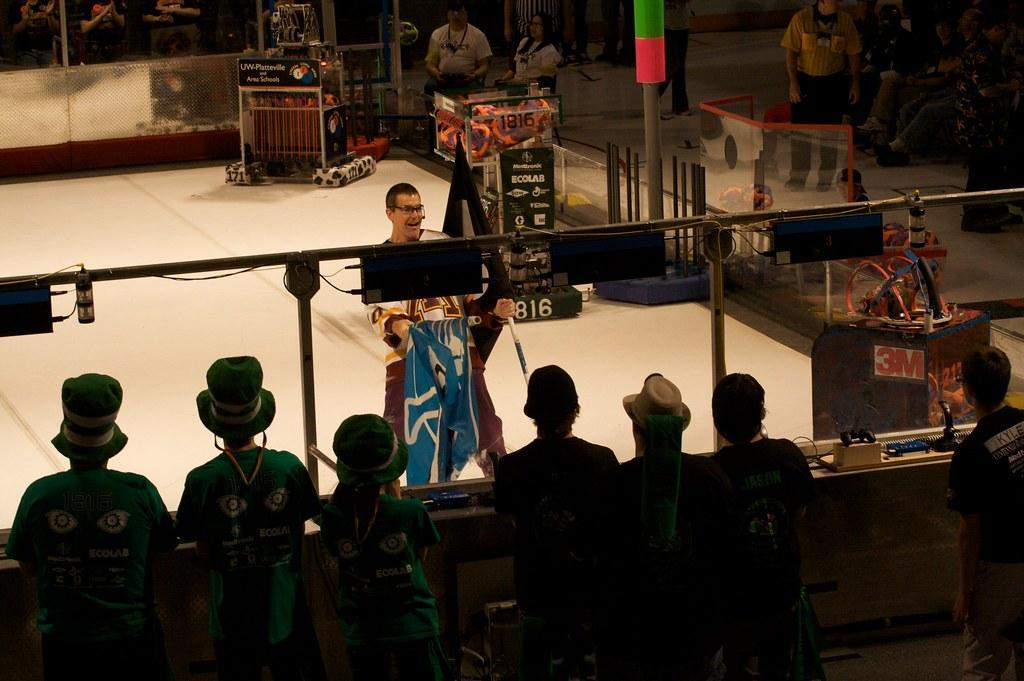robot: (420, 67, 587, 323), (804, 249, 1009, 455), (216, 2, 377, 189)
